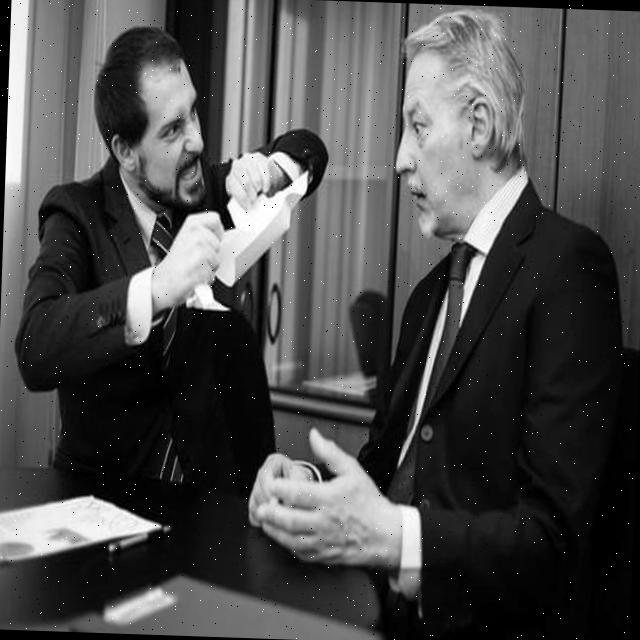Angry: (130, 65, 213, 214)
